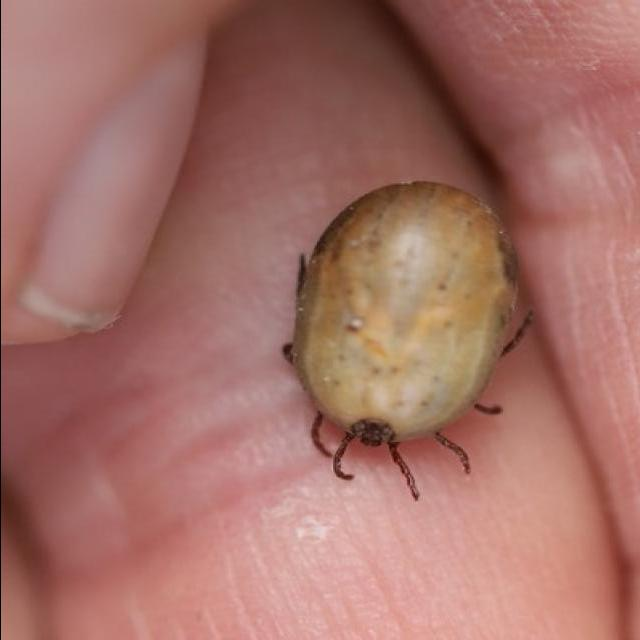Dermacentor Reticulatus-F-Fed: (281, 179, 534, 500)
